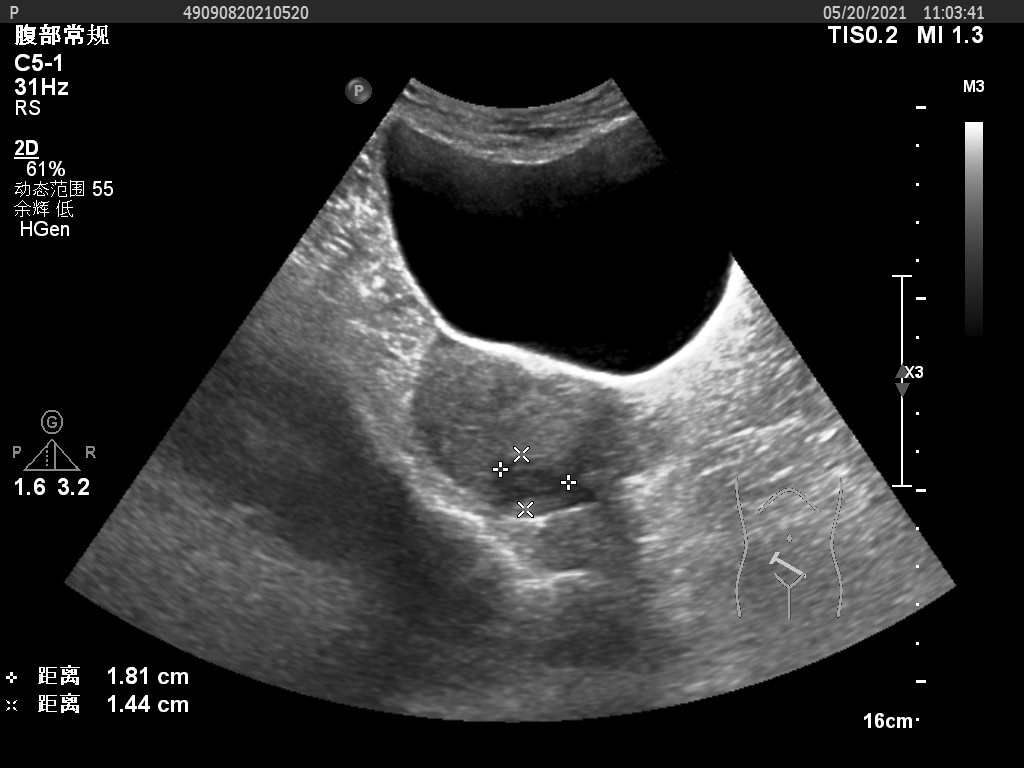肌瘤: (494, 461, 565, 499)
